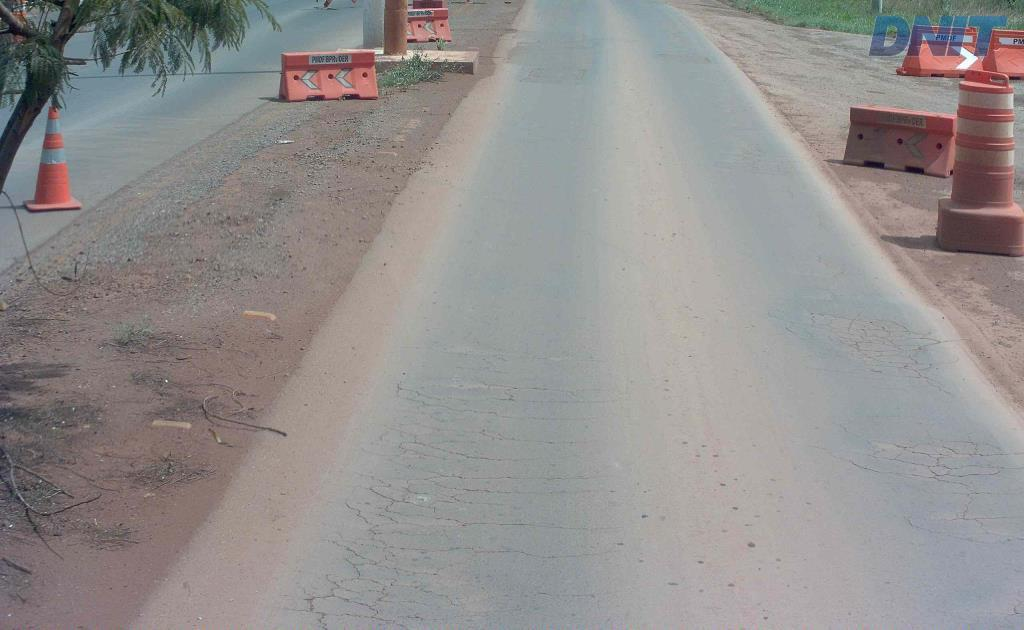crack: (296, 573, 425, 629), (423, 470, 494, 504), (926, 452, 1005, 482), (437, 543, 562, 559)
